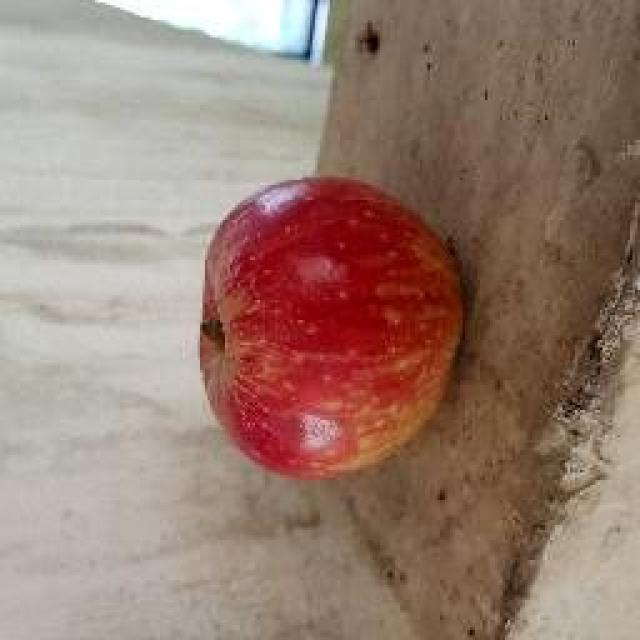Good_Apple: (198, 175, 465, 482)
